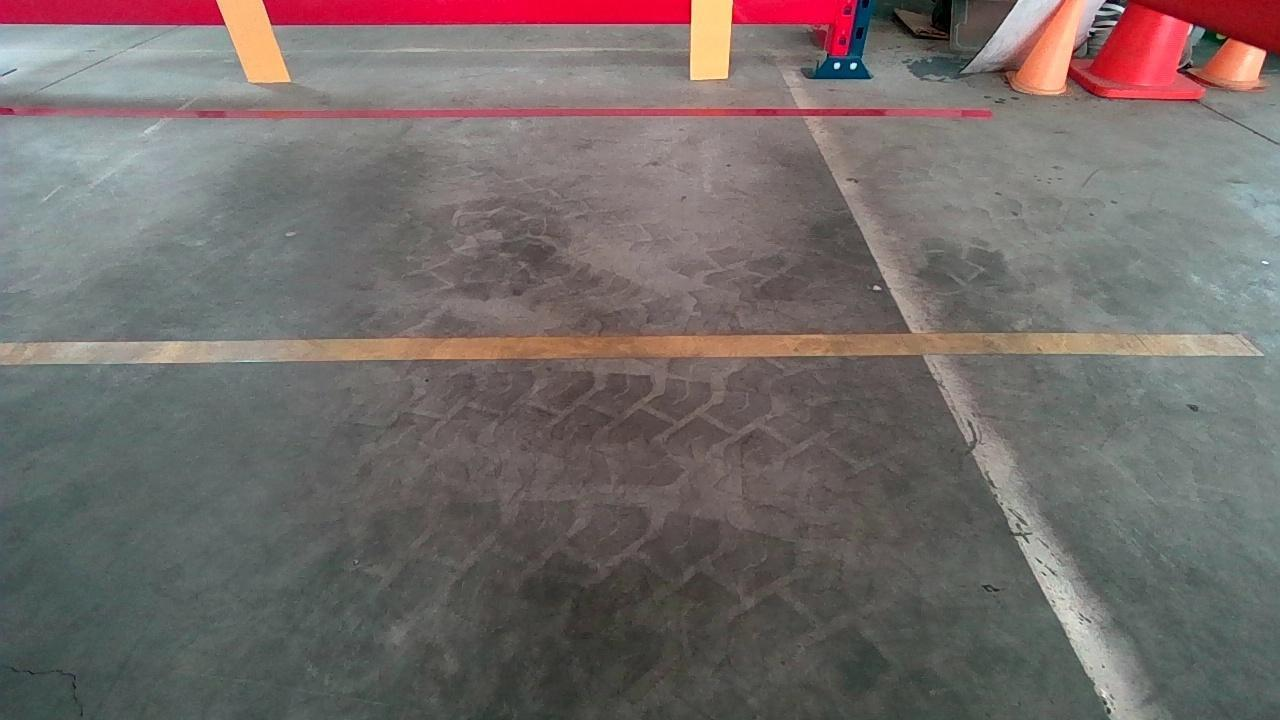h_rack: (7, 0, 832, 30)
orange_strip: (216, 0, 289, 76), (690, 0, 732, 76)
red_line: (8, 102, 993, 135)
yellow_line: (15, 317, 1255, 381)
